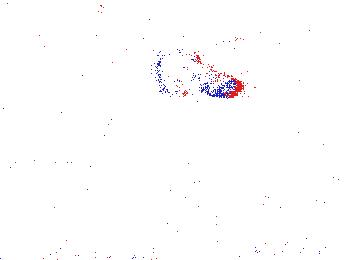flame jellyfish: (148, 45, 243, 100), (148, 151, 210, 224), (5, 166, 71, 220)
